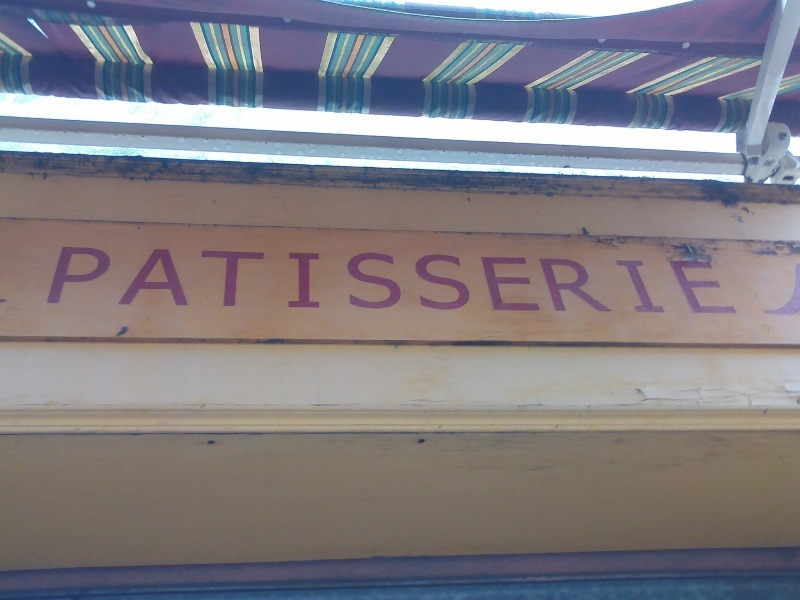text: (65, 244, 80, 317), (81, 244, 96, 317), (97, 244, 112, 317), (113, 244, 128, 317), (129, 244, 144, 317), (145, 244, 160, 317), (161, 244, 176, 317), (177, 244, 192, 317), (193, 244, 208, 317), (209, 244, 224, 317), (225, 244, 240, 317), (241, 244, 256, 317), (257, 244, 272, 317), (273, 244, 288, 317), (289, 244, 304, 317), (305, 244, 320, 317), (321, 244, 336, 317), (337, 244, 352, 317), (353, 244, 368, 317), (369, 244, 384, 317), (385, 244, 400, 317), (401, 244, 416, 317), (417, 244, 432, 317), (433, 244, 448, 317), (449, 244, 464, 317), (465, 244, 480, 317), (481, 244, 496, 317), (497, 244, 512, 317), (513, 244, 528, 317), (529, 244, 544, 317), (545, 244, 560, 317), (561, 244, 576, 317), (577, 244, 592, 317), (593, 244, 608, 317), (609, 244, 624, 317), (625, 244, 640, 317), (641, 244, 656, 317), (657, 244, 672, 317), (673, 244, 688, 317), (689, 244, 704, 317), (705, 244, 720, 317), (721, 244, 736, 317), (737, 244, 744, 317), (59, 244, 64, 317)
